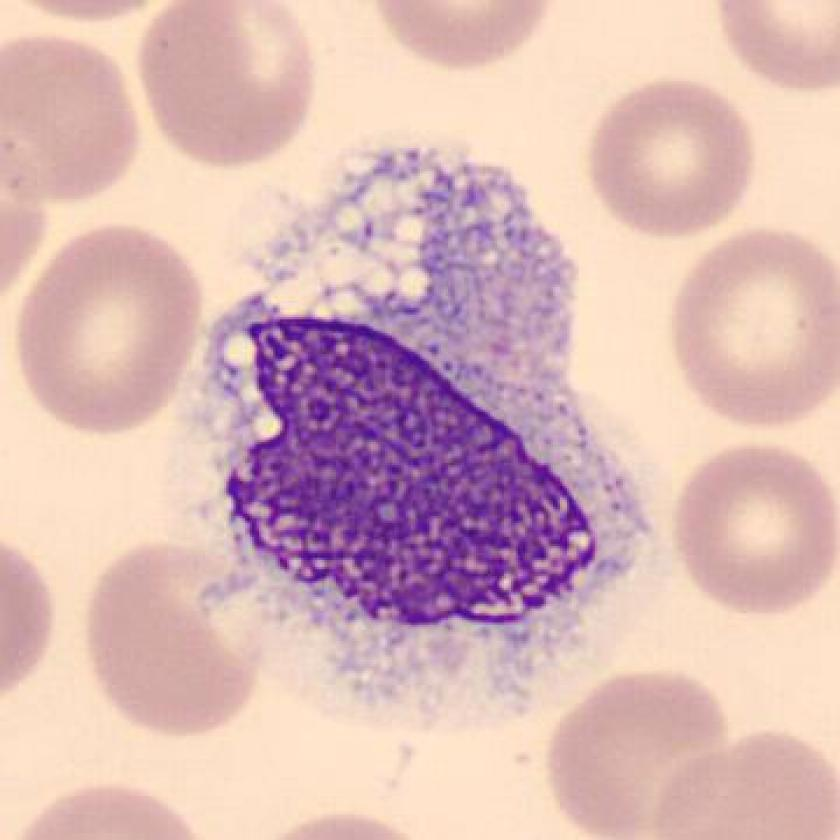monocyte: (162, 121, 682, 765)
